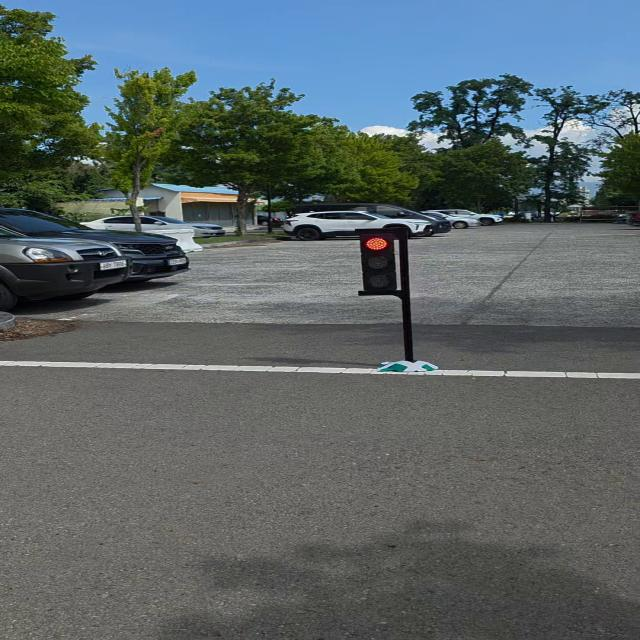red: (344, 225, 413, 302)
